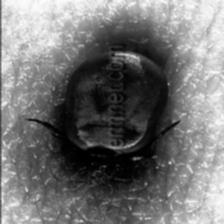Toxin: (119, 33, 186, 178), (46, 45, 106, 181)
